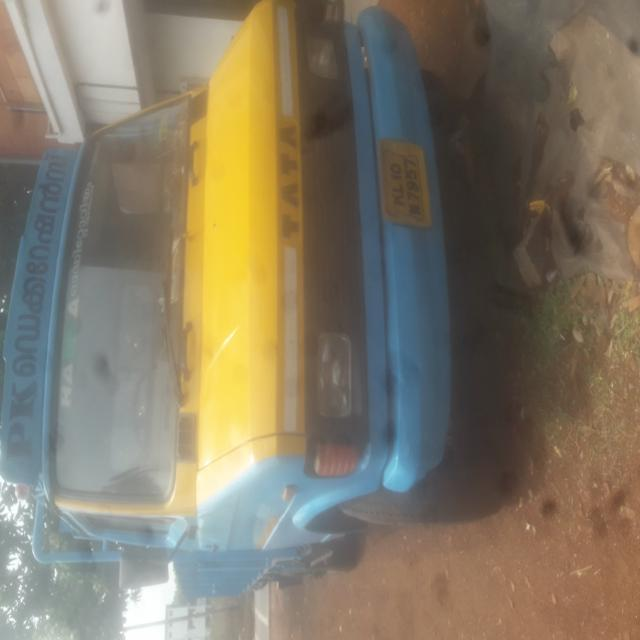Truck: (41, 0, 470, 640)
